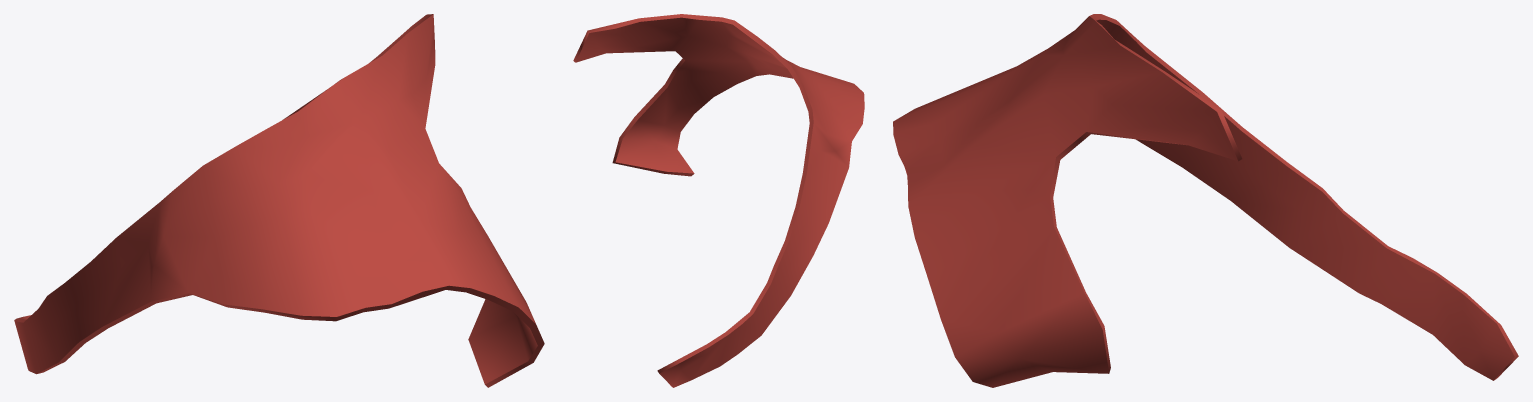
File: musculos-superior-fibular-retinaculum-r.glb
The picture shows the model from 3 angles, left to right: view 1: azimuth 30°, elevation 25°; view 2: azimuth 150°, elevation 25°; view 3: azimuth 270°, elevation 25°; orthographic projection. The views are drawn at different scales.
Visible parts, largest first — view 1: Superior fibular retinaculum.r; view 2: Superior fibular retinaculum.r; view 3: Superior fibular retinaculum.r.
Part boxes in pixels (x1=…): Superior fibular retinaculum.r: x1=14, y1=14, x2=544, y2=387; Superior fibular retinaculum.r: x1=573, y1=14, x2=864, y2=387; Superior fibular retinaculum.r: x1=893, y1=14, x2=1518, y2=387.
Size of the model in its own units: 0.0574 by 0.0598 by 0.081.
